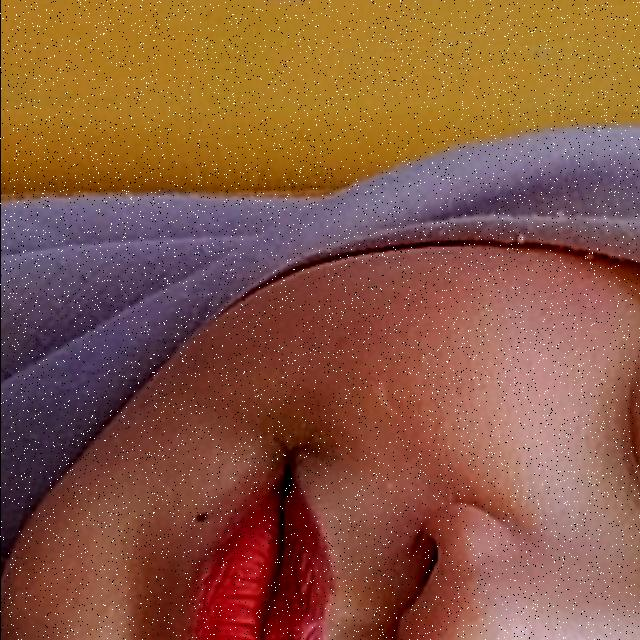baik: (0, 0, 572, 400)
